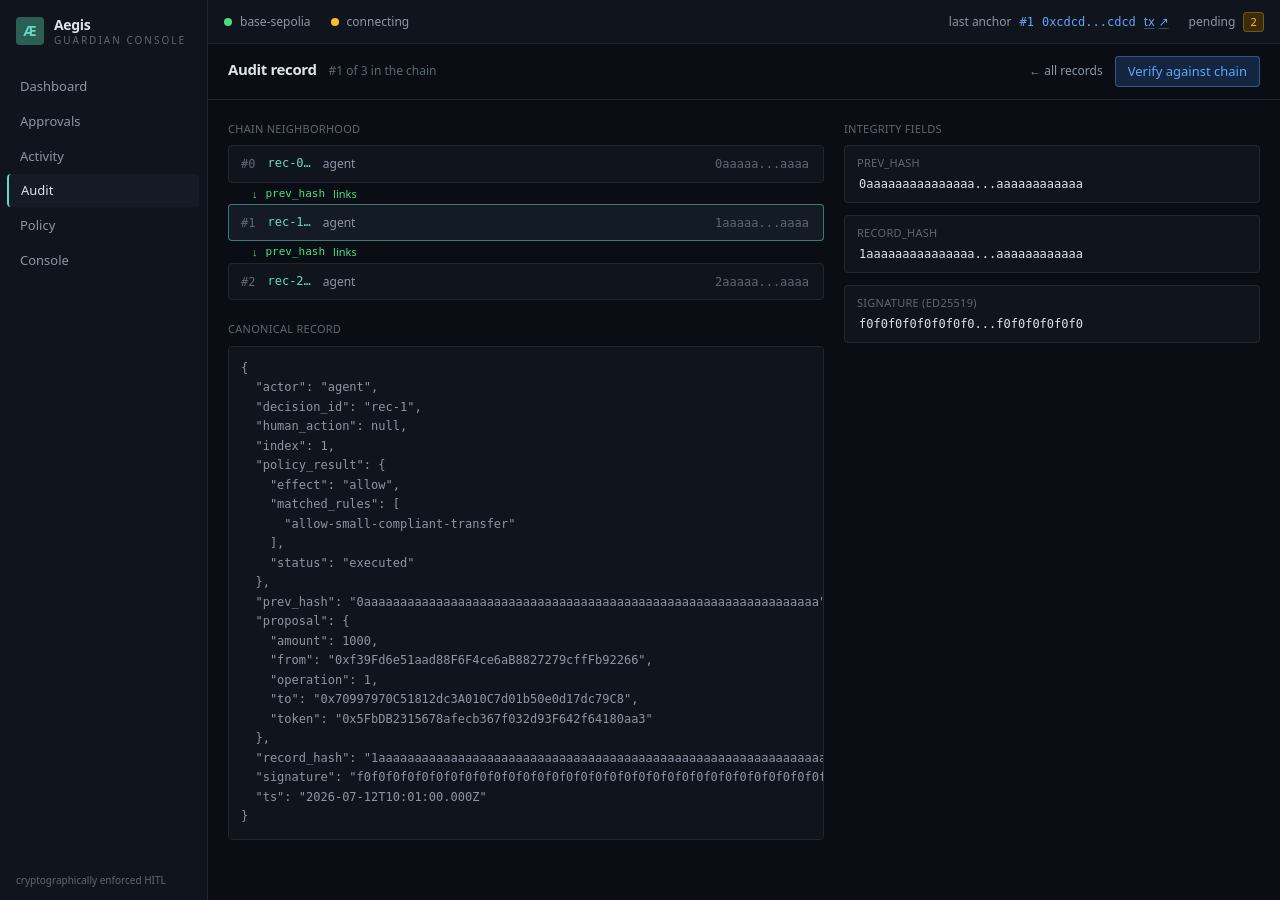
AuditRecordPage › renders PROOF FAIL with the reason
Click the button "Verify against chain" at (1187, 71), box [1115,56,1260,87]
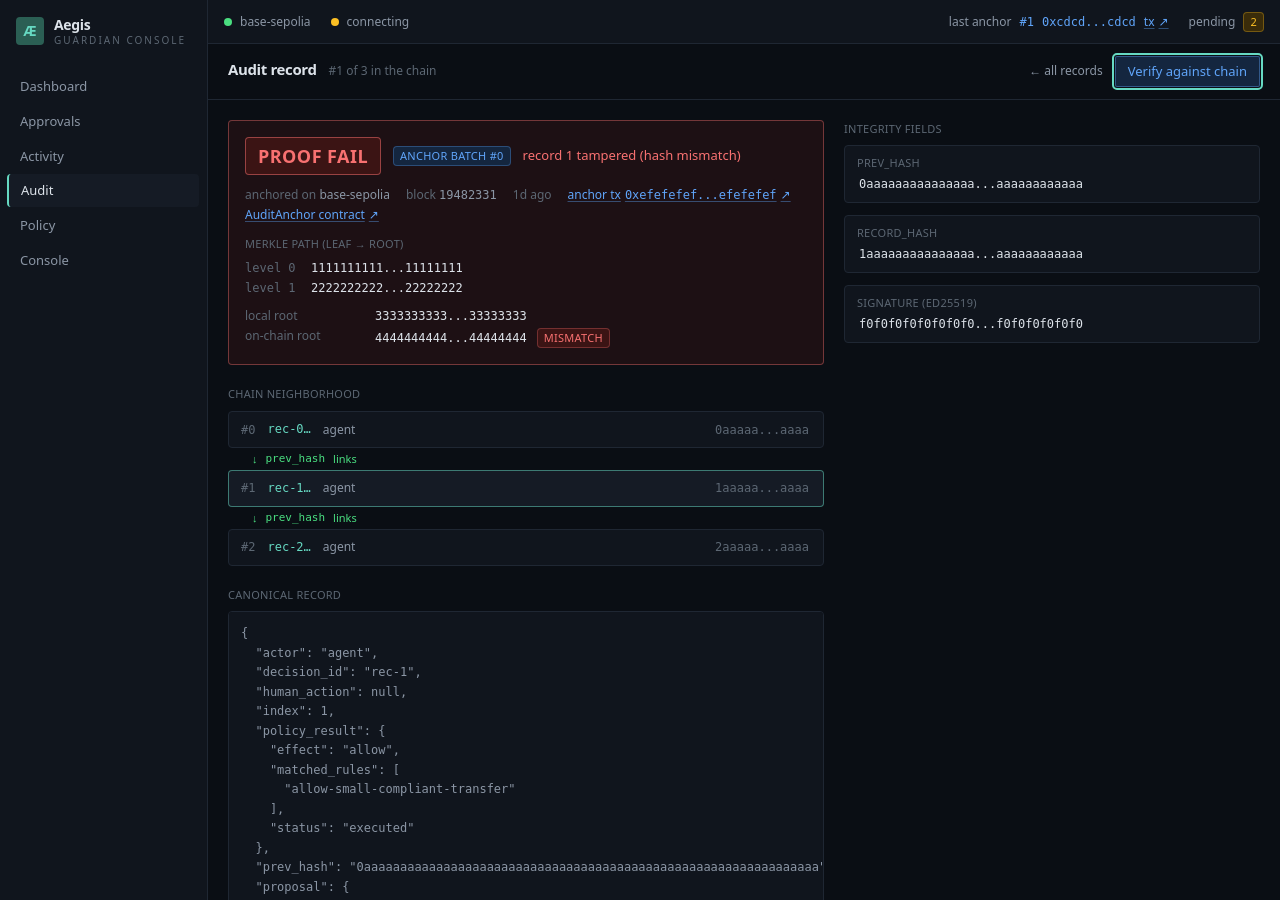
Expected: the text "PROOF FAIL" is shown, [245,137,381,175]
Expected: the text "record 1 tampered (hash mismatch)" is shown, [523,145,741,166]
Expected: the text "mismatch" is shown, [537,328,610,348]
